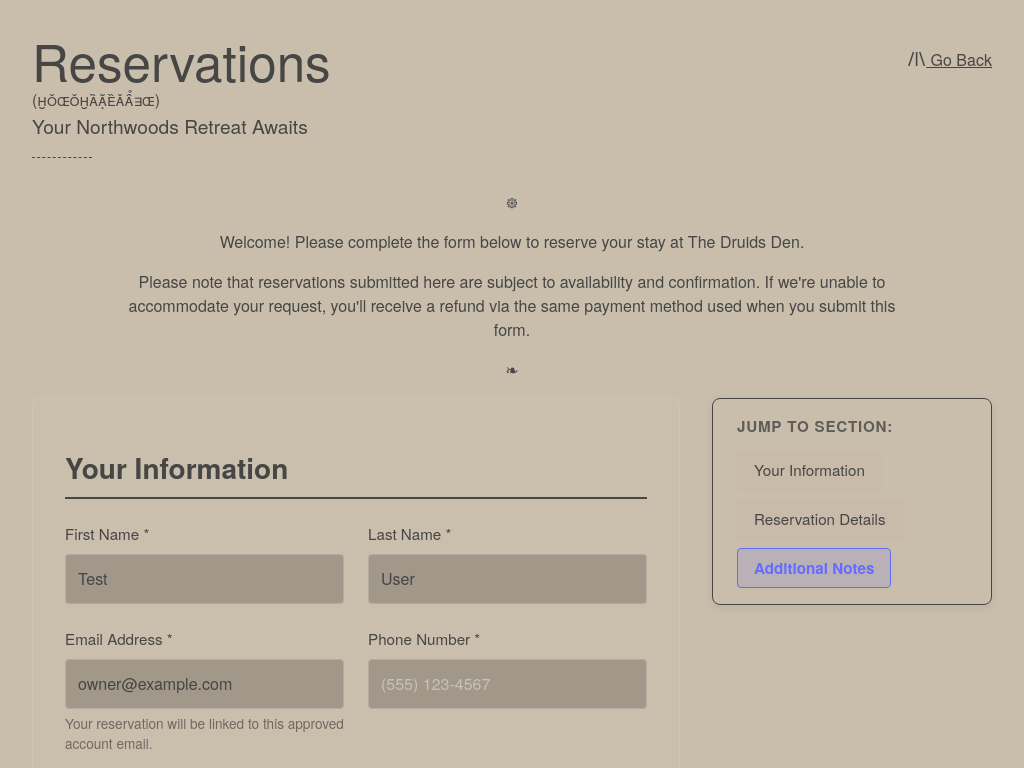
Scenario: Reservations › validates phone format on blur
Expected: the field labelled "First Name *" is shown, [65, 554, 344, 604]
Type "123" into the field labelled "Phone Number *" at (508, 684), box [368, 659, 647, 709]
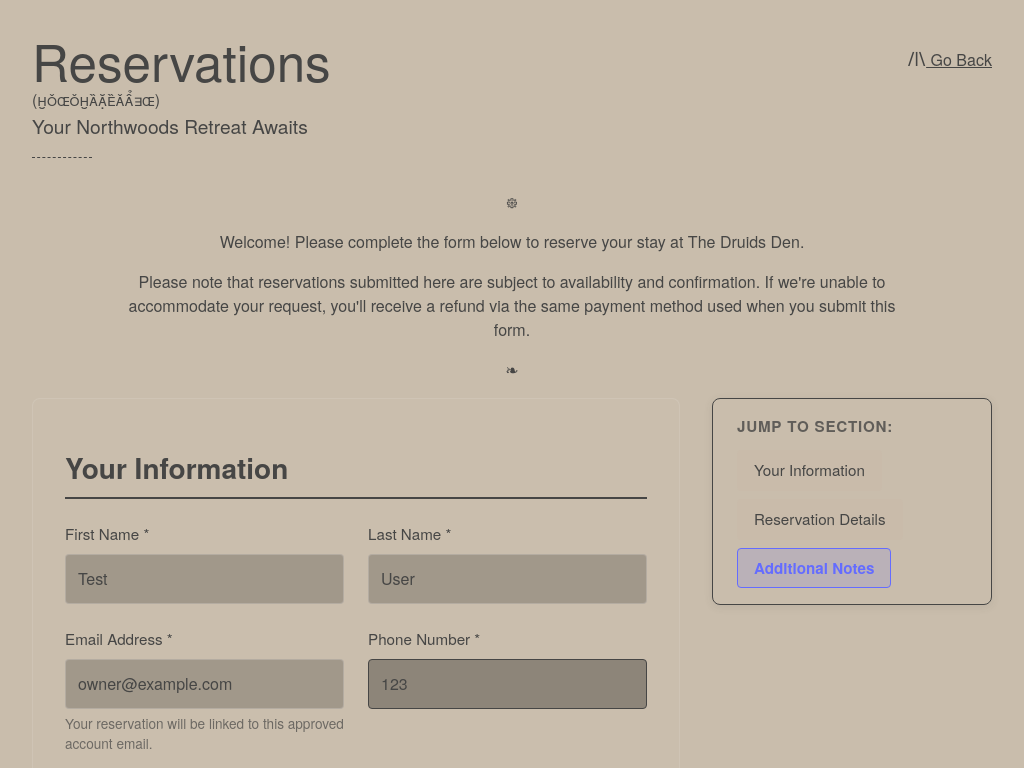
Press Tab
(page scrolled)
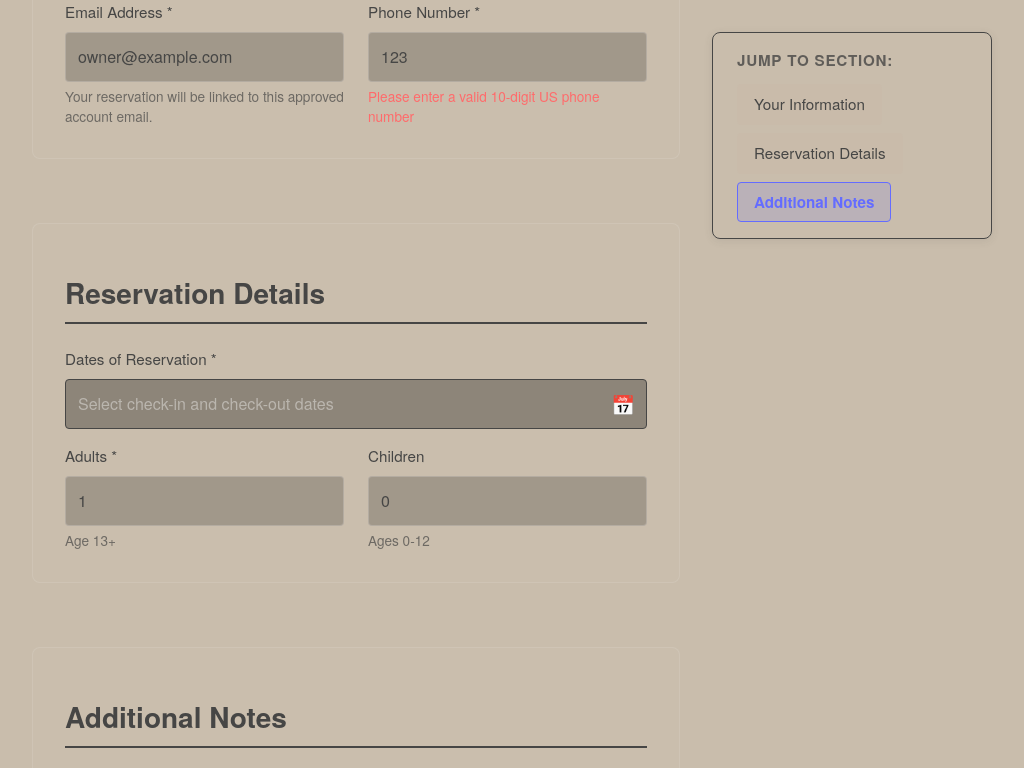
Expected: the text "Please enter a valid 10-digit US phone number" is shown, [368, 86, 600, 126]
